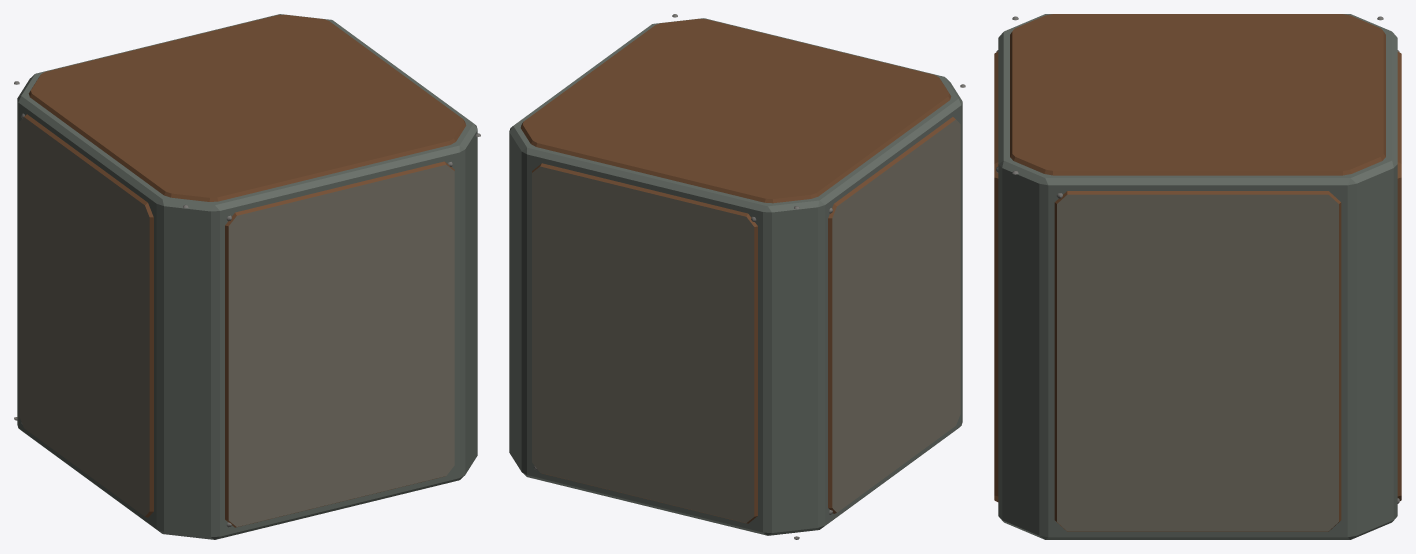
File: R4B_OctColumn.fbx
3 renders of one model, left to right at view 1: azimuth 30°, elevation 25°; view 2: azimuth 150°, elevation 25°; view 3: azimuth 270°, elevation 25°, orthographic. The views are drawn at different scales.
Visible parts, largest first — view 1: R4B_OctColumn; view 2: R4B_OctColumn; view 3: R4B_OctColumn.
Part boxes in pixels (<box>): R4B_OctColumn: <box>14,14,480,539</box>; R4B_OctColumn: <box>509,14,965,539</box>; R4B_OctColumn: <box>994,14,1401,539</box>.
Size of the model in its own units: 0.52 by 0.52 by 0.52.
